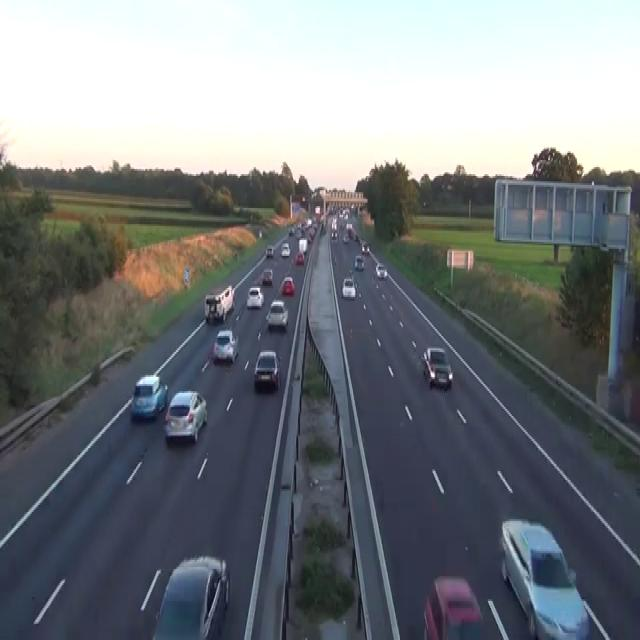Car: (500, 518, 590, 638), (151, 555, 230, 638), (423, 574, 483, 638), (163, 389, 207, 443), (130, 374, 168, 419), (421, 345, 452, 391), (253, 348, 280, 389), (212, 329, 238, 363), (266, 299, 288, 327), (431, 363, 452, 389), (246, 284, 264, 308), (222, 285, 235, 311), (341, 277, 356, 299), (279, 276, 295, 295), (262, 266, 273, 284), (375, 262, 387, 278), (354, 254, 364, 270), (280, 242, 290, 256), (294, 251, 304, 265), (298, 238, 307, 252), (265, 244, 273, 258), (361, 242, 369, 254), (307, 229, 314, 242), (320, 224, 327, 235), (331, 217, 337, 229), (331, 229, 337, 240), (342, 233, 349, 242), (346, 222, 353, 230), (306, 217, 312, 226), (295, 228, 301, 236), (288, 228, 294, 235), (258, 228, 262, 238), (354, 233, 358, 242), (422, 201, 428, 206), (333, 256, 336, 265)
Truck: (203, 284, 234, 324)
